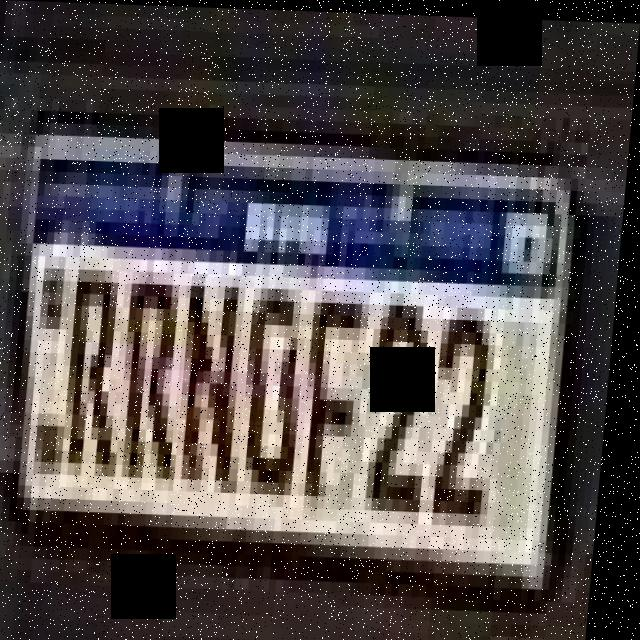0: (241, 280, 315, 502)
F: (301, 288, 381, 516)
N: (178, 274, 259, 491)
R: (117, 268, 196, 482), (60, 258, 137, 475)
